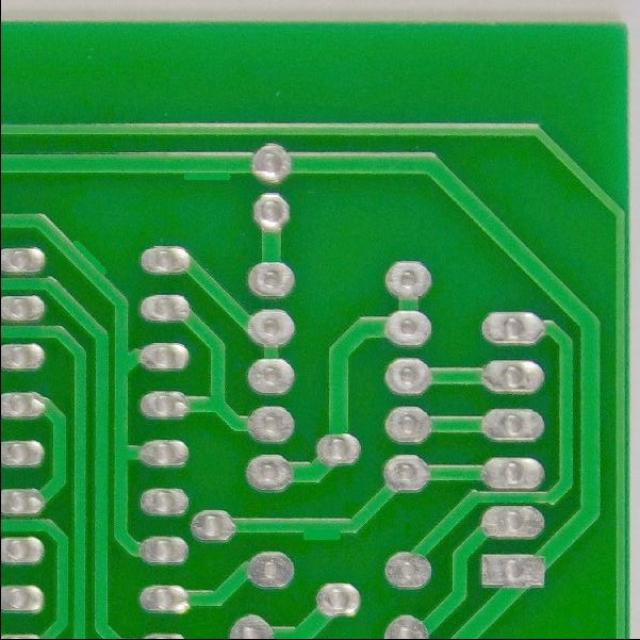spur: (175, 143, 235, 190), (69, 229, 111, 283), (295, 513, 345, 554)
